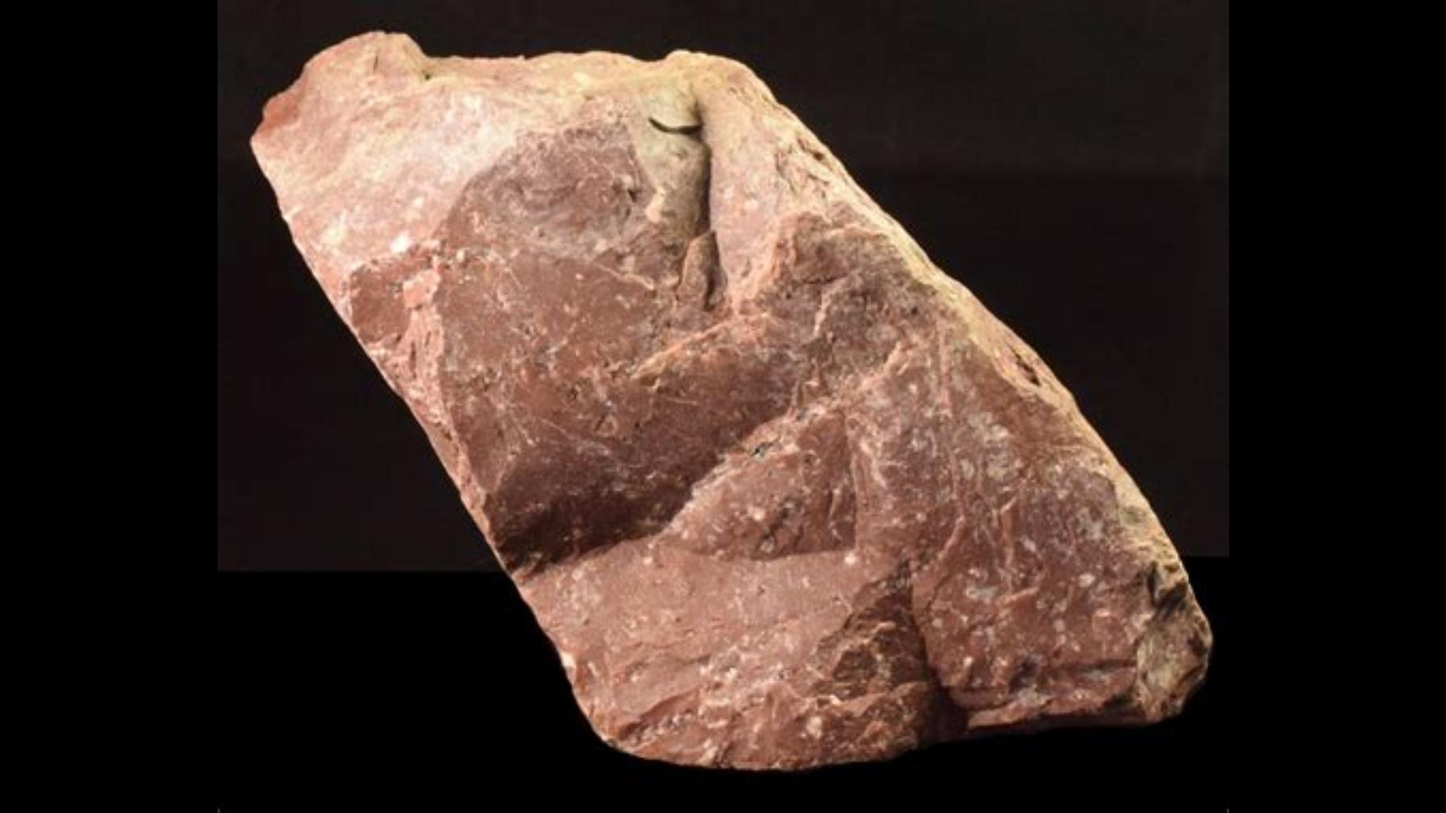rock: (253, 34, 1201, 755)
